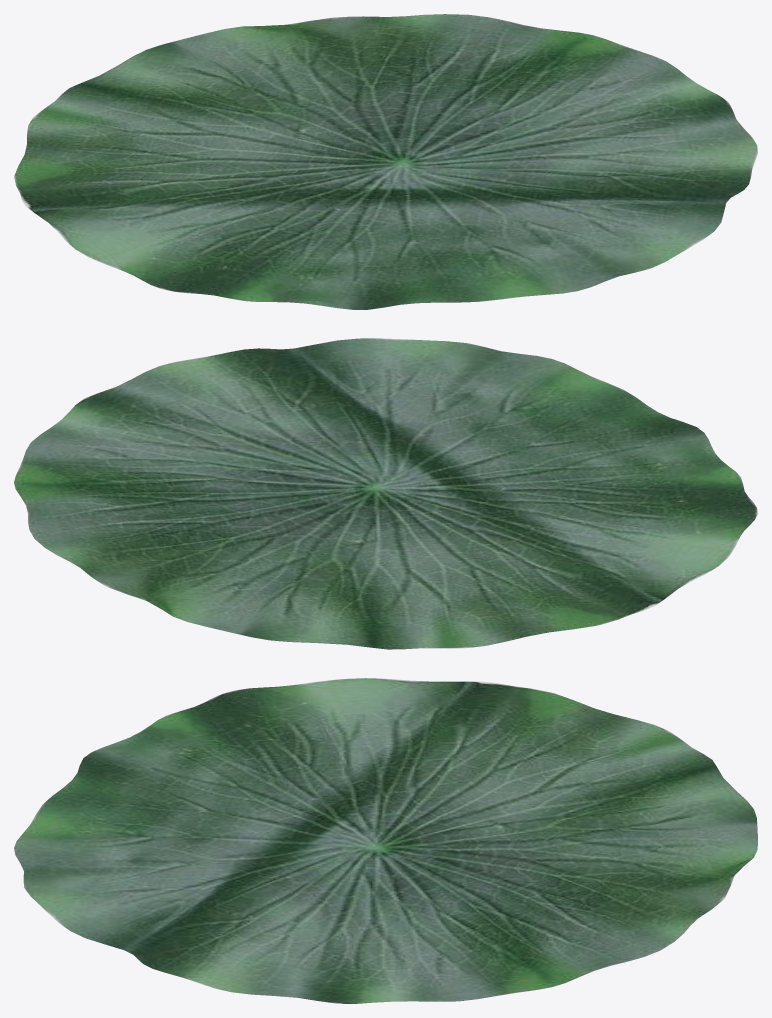
File: lotusPetal.fbx
3 views of the same model, one above another, from view 1: azimuth 30°, elevation 25°; view 2: azimuth 150°, elevation 25°; view 3: azimuth 270°, elevation 25° (orthographic). The views are drawn at different scales.
Parts seen in each view (by area): view 1: 12_Pcs_Lotus_Leaves_High_Quality_Durable_Prime_Sturdy_Lotus; view 2: 12_Pcs_Lotus_Leaves_High_Quality_Durable_Prime_Sturdy_Lotus; view 3: 12_Pcs_Lotus_Leaves_High_Quality_Durable_Prime_Sturdy_Lotus.
Part boxes in pixels (x1,y1,x2,y2): 12_Pcs_Lotus_Leaves_High_Quality_Durable_Prime_Sturdy_Lotus: [14, 14, 757, 309]; 12_Pcs_Lotus_Leaves_High_Quality_Durable_Prime_Sturdy_Lotus: [14, 338, 757, 649]; 12_Pcs_Lotus_Leaves_High_Quality_Durable_Prime_Sturdy_Lotus: [14, 678, 757, 1003].
Bounding box in the file's own units: 24.46 × 3.85e-06 × 23.61.
